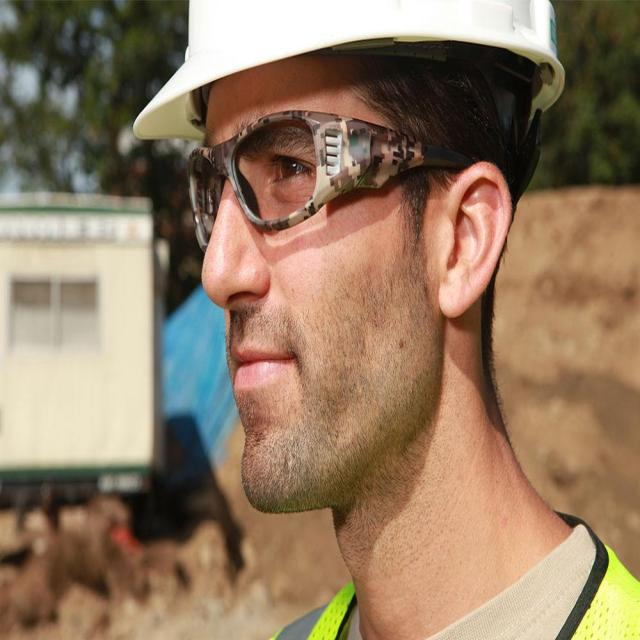goggles: (184, 109, 478, 248)
helmet: (128, 0, 574, 148)
